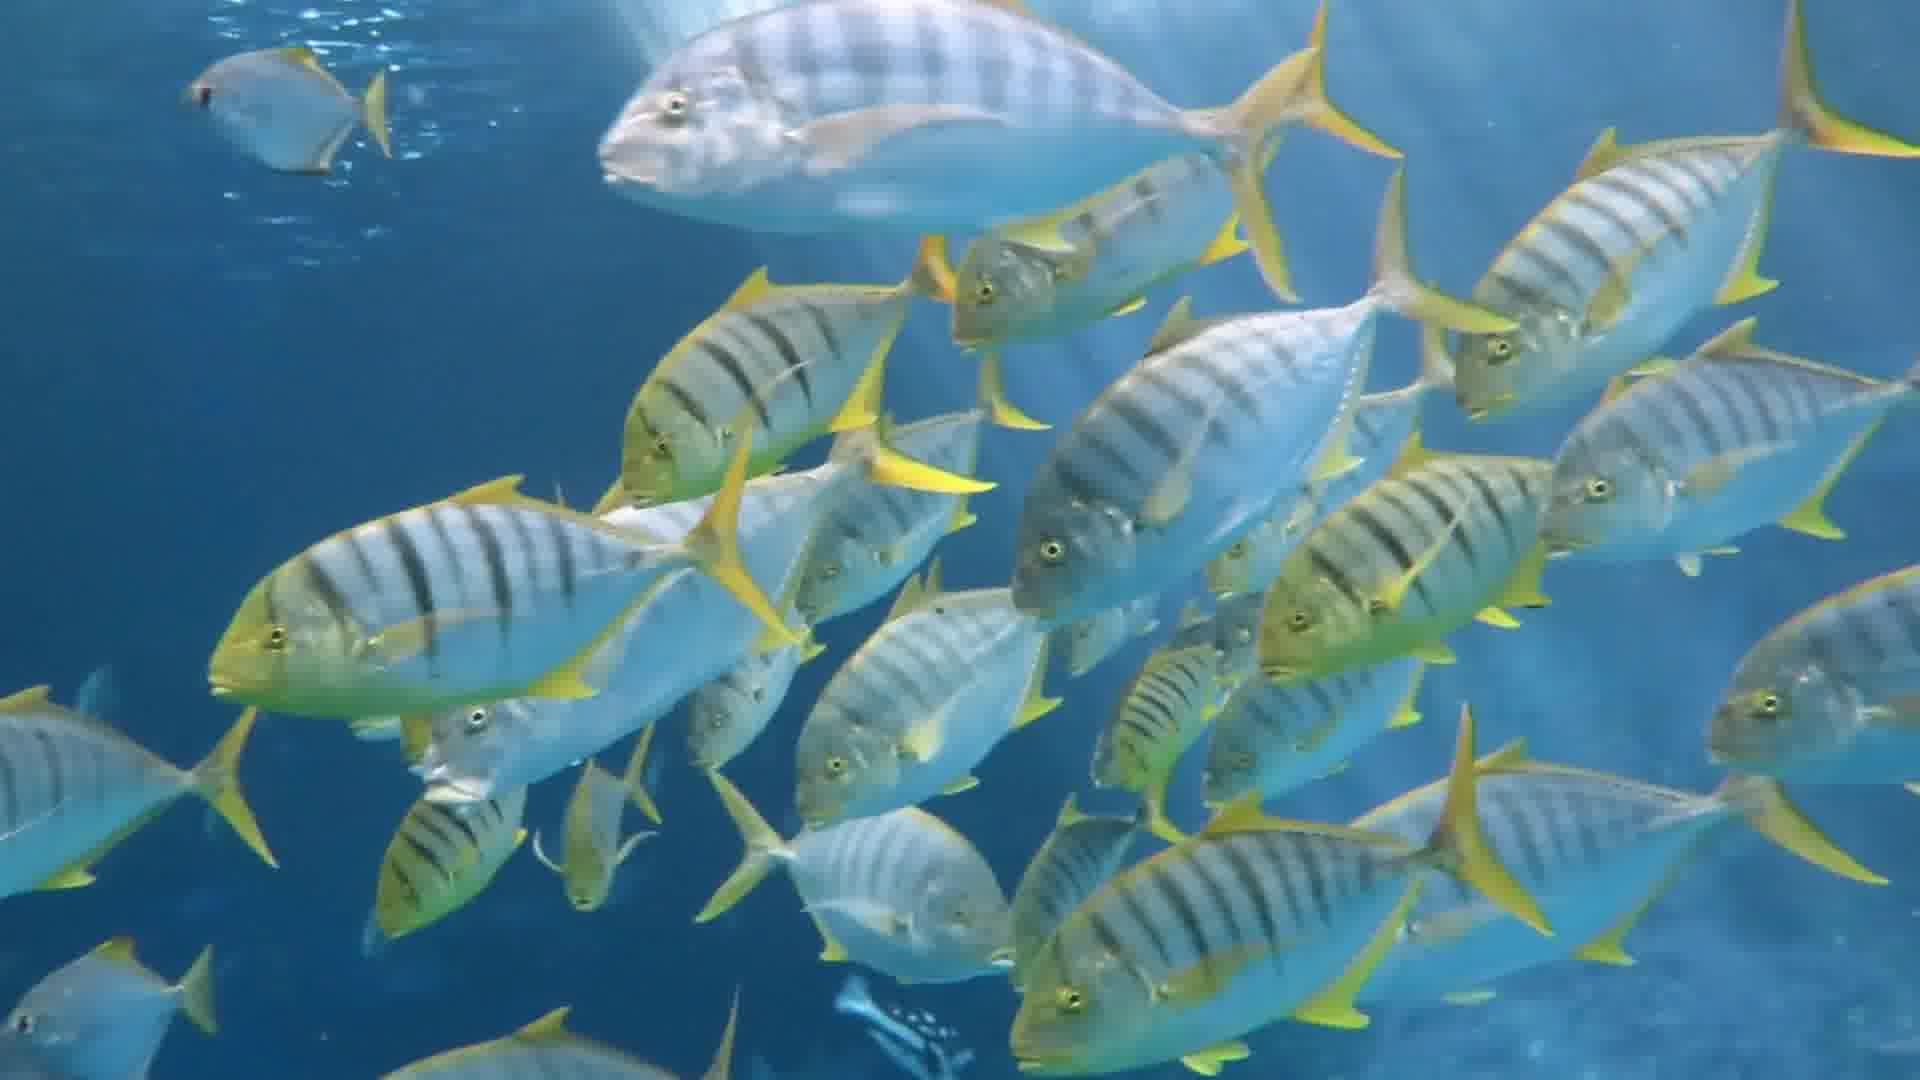Gnathanodon speciosus: (562, 25, 1336, 225), (1005, 251, 1375, 651), (203, 471, 783, 715), (1015, 789, 1515, 1068), (1457, 82, 1863, 417), (1527, 326, 1891, 563), (624, 272, 909, 506), (1257, 452, 1545, 682), (798, 593, 1040, 837), (719, 785, 992, 980), (939, 200, 1224, 363), (1702, 564, 1920, 769), (365, 775, 531, 960)
